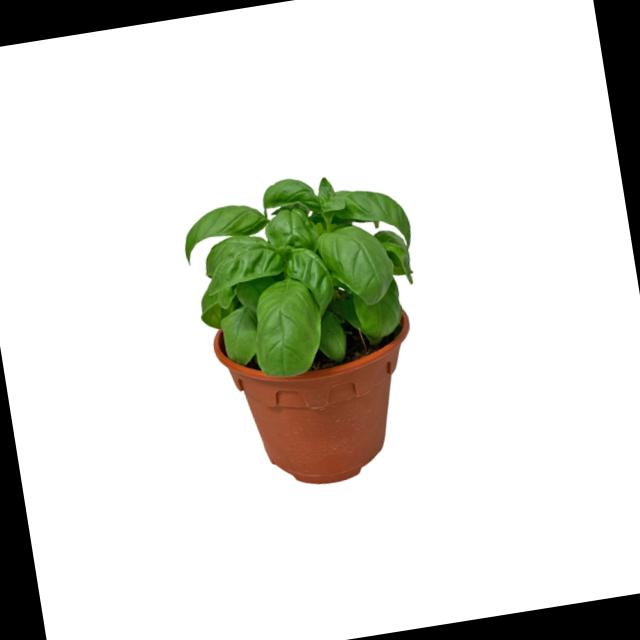Sweet Basil: (146, 138, 440, 395)
